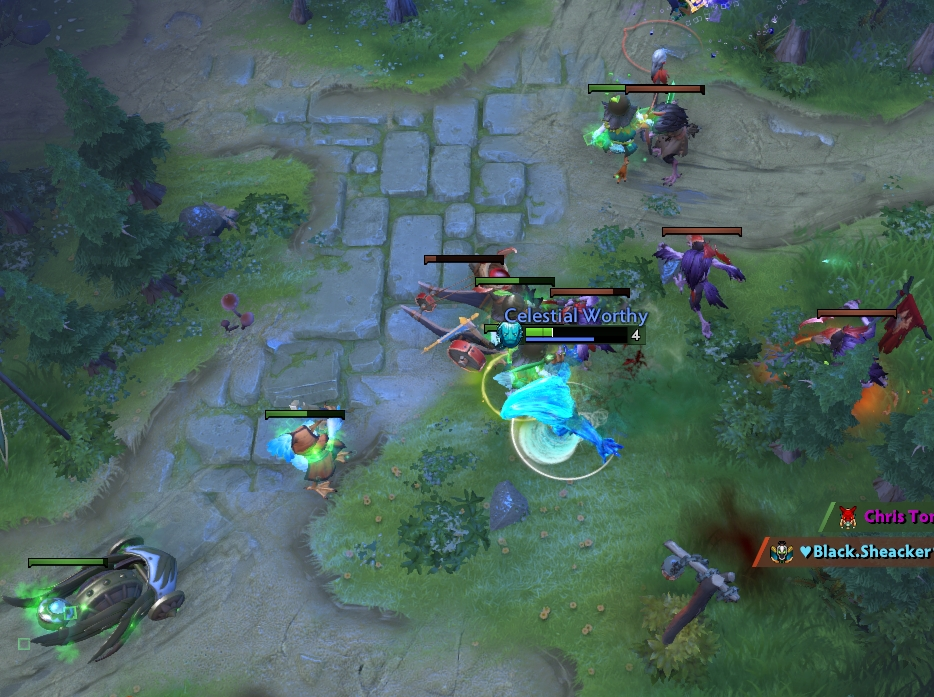allyCreep: (255, 403, 352, 423), (19, 554, 117, 569), (469, 271, 564, 286), (477, 320, 569, 334), (584, 78, 661, 92)
enemyCreep: (414, 248, 512, 266), (655, 222, 747, 238), (543, 284, 635, 300), (621, 80, 711, 95), (809, 304, 904, 317)
